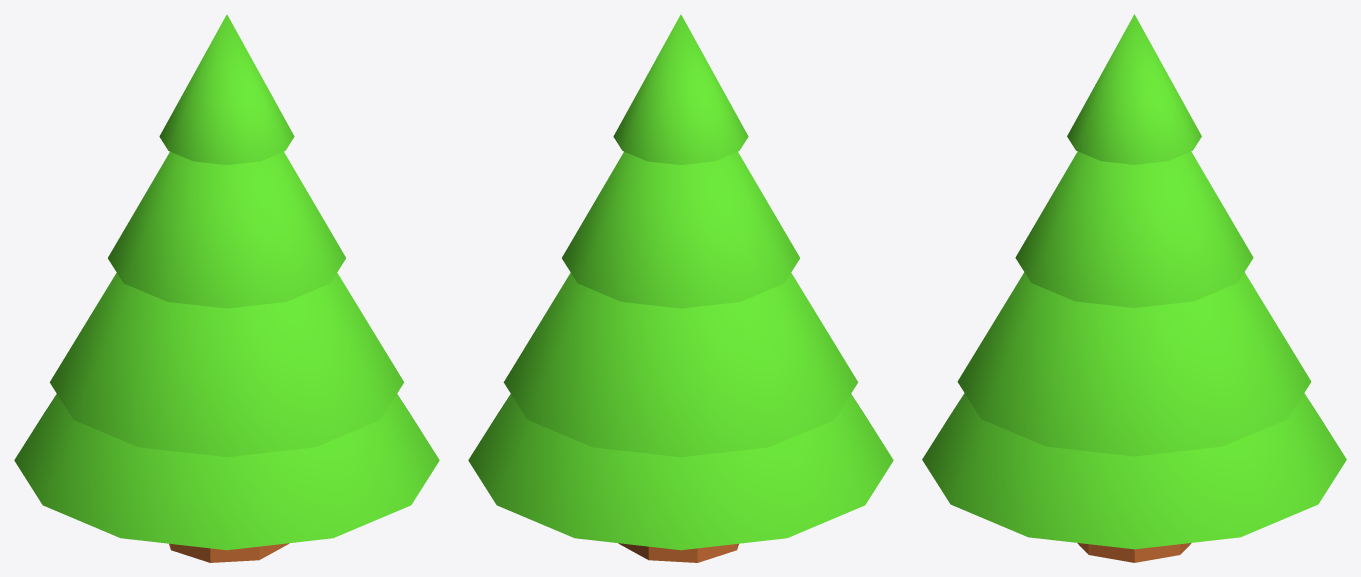
The model's file is tree_pine.glb.
The picture shows the model from 3 angles, left to right: view 1: azimuth 30°, elevation 25°; view 2: azimuth 150°, elevation 25°; view 3: azimuth 270°, elevation 25°; orthographic projection.
Visible parts, largest first — view 1: Tree.003, Tree.004, Tree.002, Tree.001, Cylinder; view 2: Tree.003, Tree.004, Tree.002, Tree.001, Cylinder; view 3: Tree.003, Tree.004, Tree.002, Tree.001, Cylinder.
Boxes of the visible parts, x1,y1,x2,y2 form: Tree.003: [49, 273, 404, 457]; Tree.004: [14, 394, 439, 550]; Tree.002: [108, 151, 345, 308]; Tree.001: [159, 14, 294, 164]; Cylinder: [169, 543, 289, 562]; Tree.003: [503, 273, 858, 457]; Tree.004: [468, 394, 893, 550]; Tree.002: [562, 151, 799, 308]; Tree.001: [613, 14, 748, 164]; Cylinder: [618, 543, 738, 562]; Tree.003: [957, 272, 1311, 456]; Tree.004: [922, 393, 1346, 549]; Tree.002: [1015, 151, 1253, 307]; Tree.001: [1067, 14, 1201, 164]; Cylinder: [1077, 543, 1191, 562].
Size of what is drawn, in the model's own units: 5.26 by 7.12 by 5.26.
